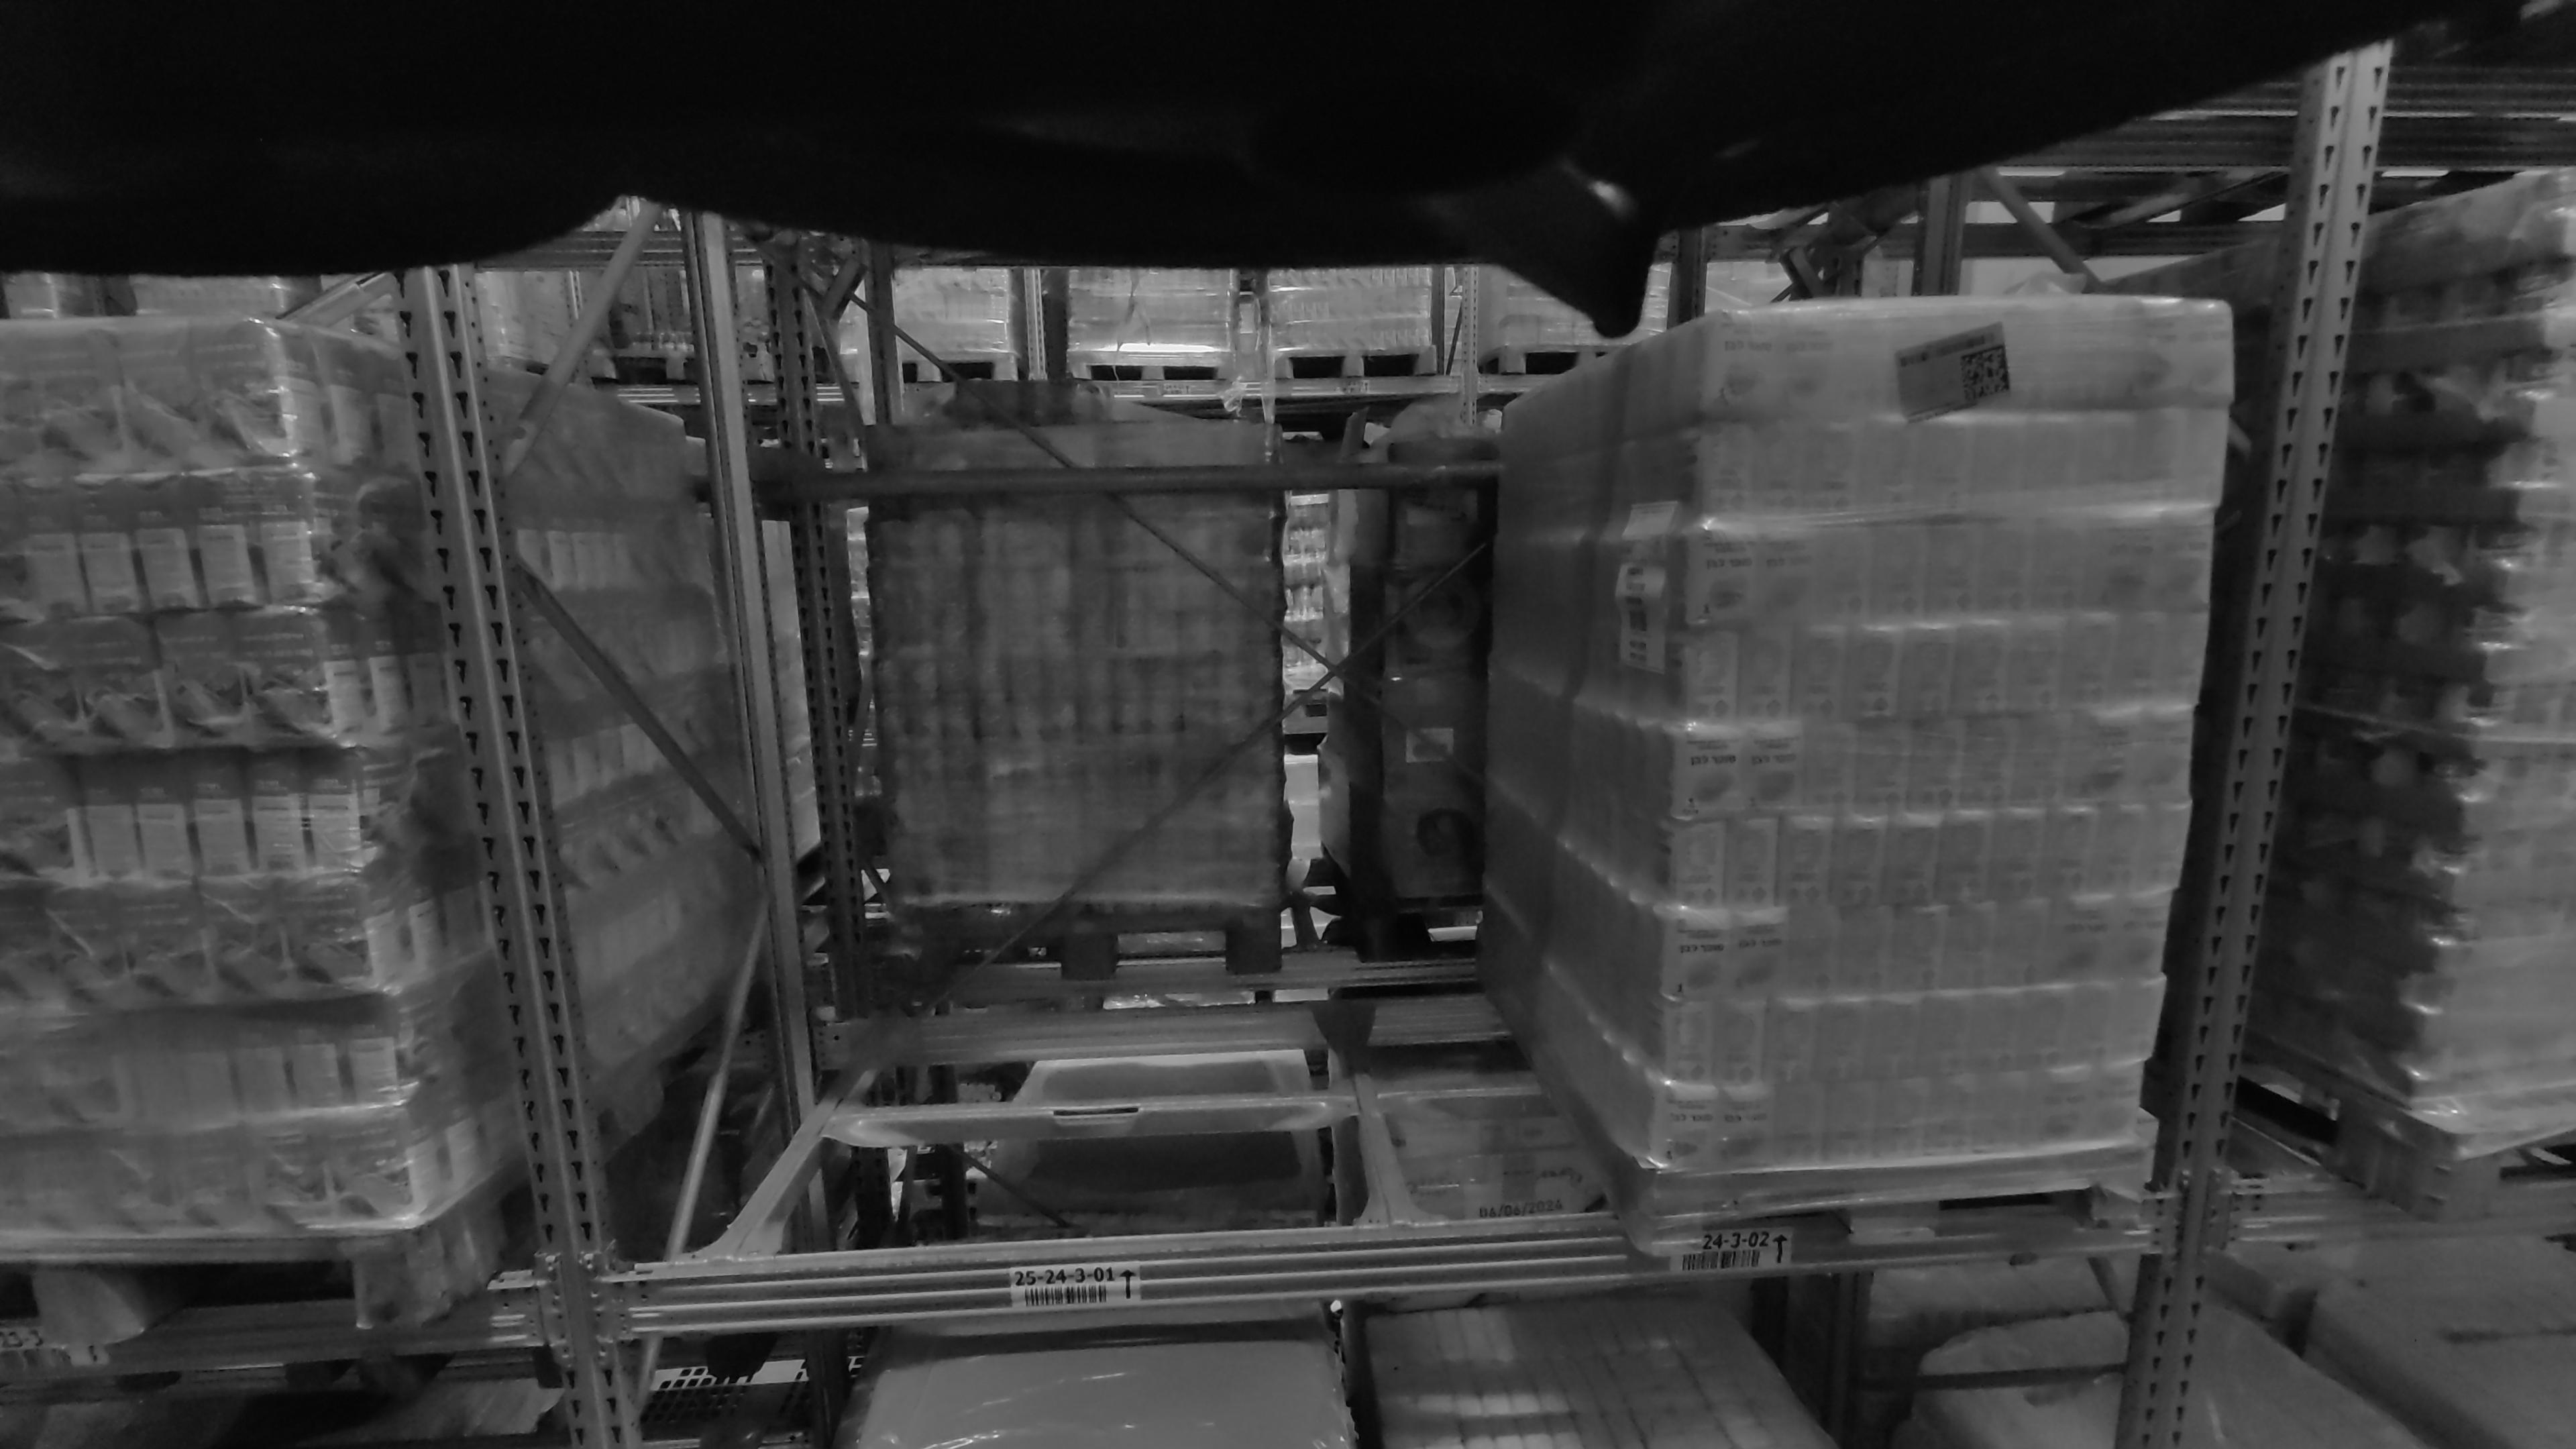empty-shelf: (706, 242, 1407, 1230)
